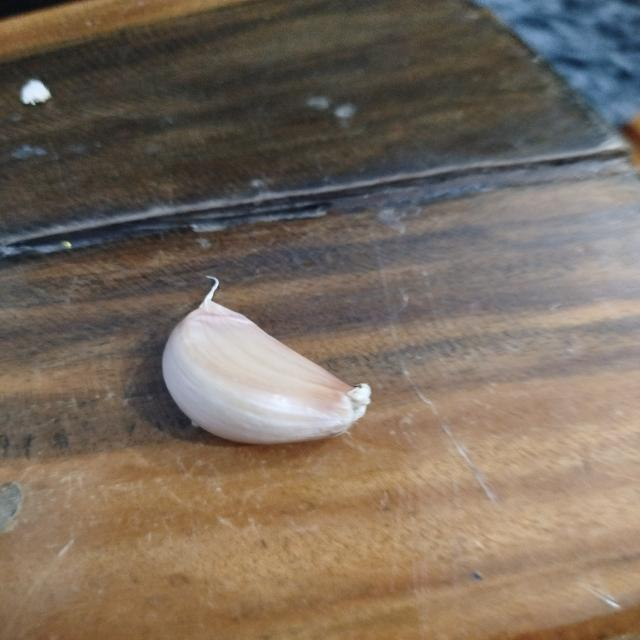garlic: (161, 275, 372, 445)
